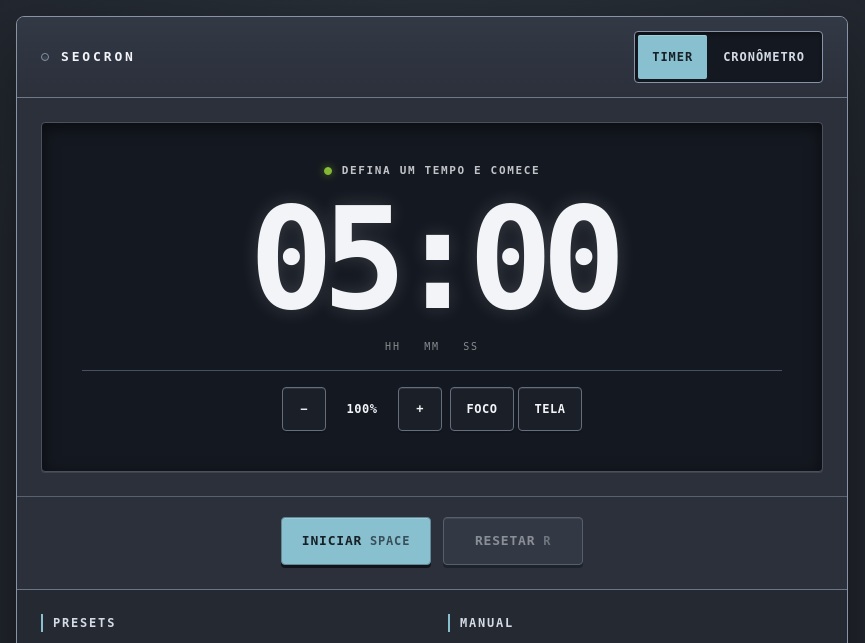
App › pauses a running Stopwatch before returning to Timer
What coordinates should you click on to do the following:
click the button "Cronômetro"
I would click on:
 (764, 57)
Its box is left=709, top=35, right=819, bottom=79.
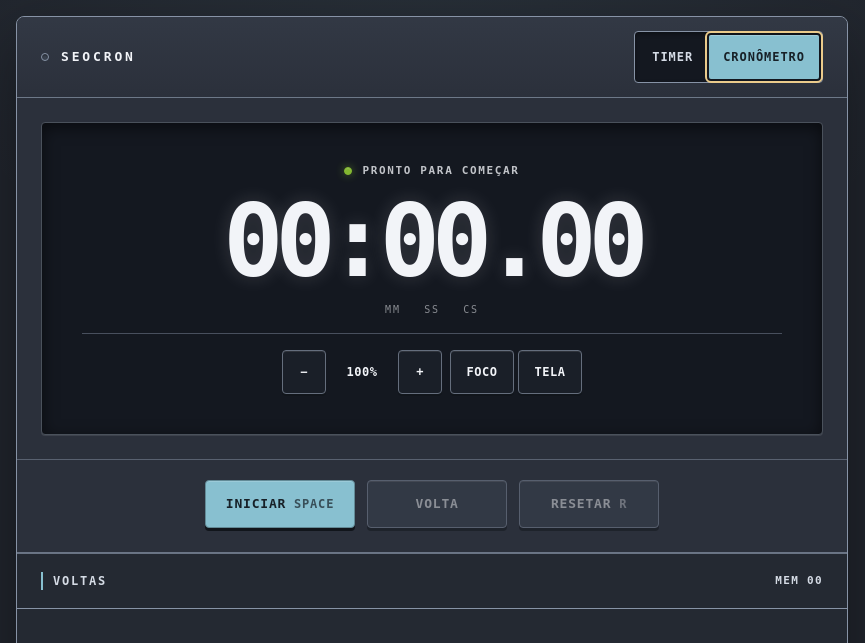
What coordinates should you click on to do the following:
click the button with aria-label "Iniciar Cronômetro"
I would click on:
 (280, 504)
Its box is left=205, top=480, right=355, bottom=528.
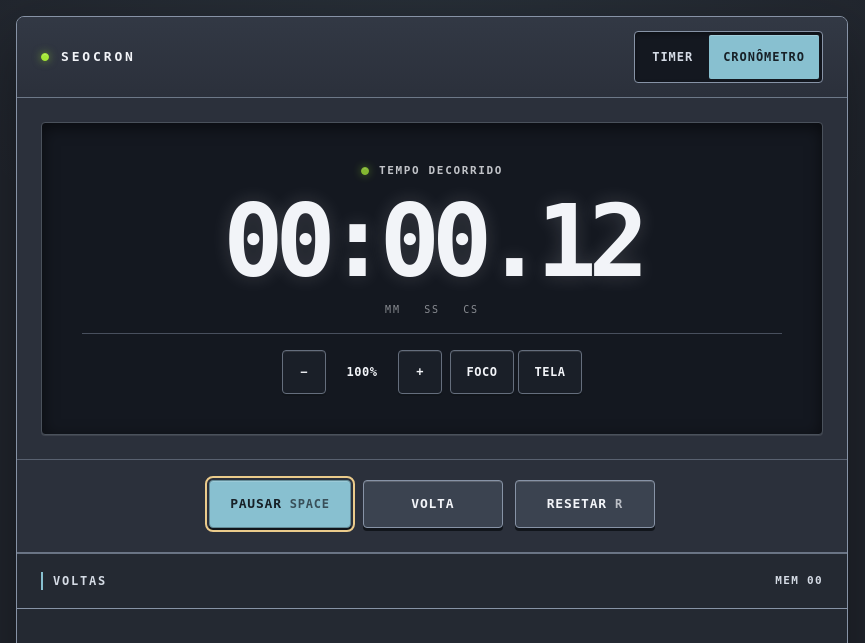
What coordinates should you click on to do the following:
click the button "Timer"
I would click on:
 (673, 57)
Its box is left=638, top=35, right=707, bottom=79.
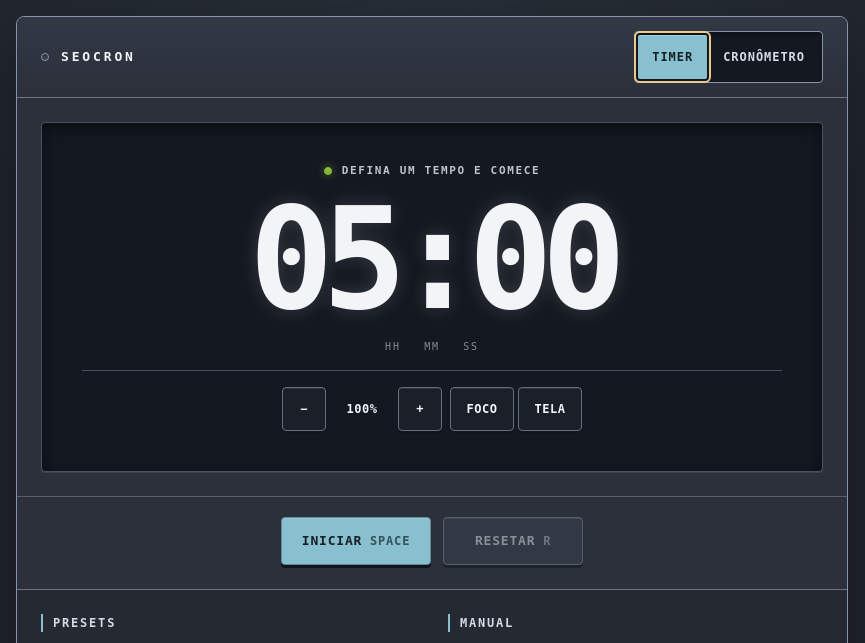
What coordinates should you click on to do the following:
click the button "Cronômetro"
I would click on:
 (764, 57)
Its box is left=709, top=35, right=819, bottom=79.
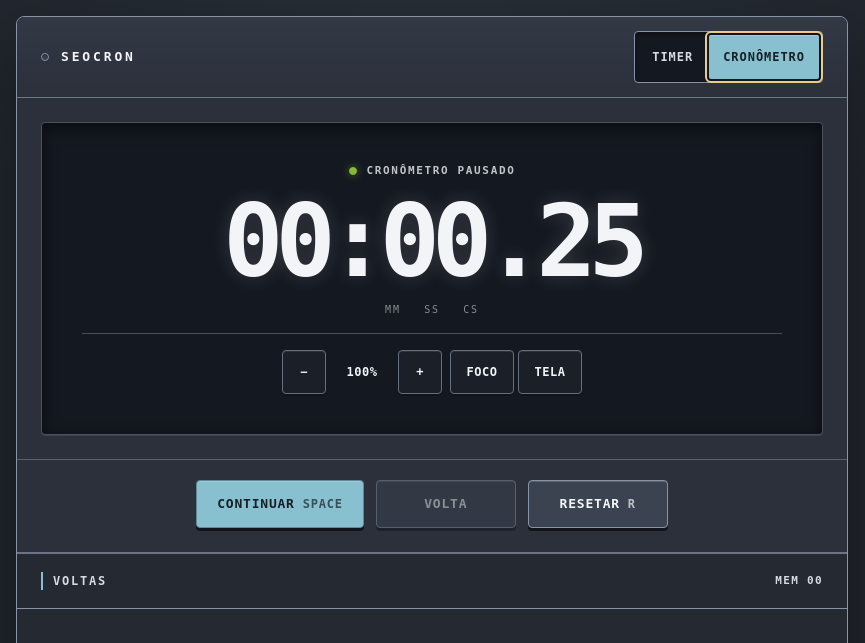
Expected: the button with aria-label "Continuar Cronômetro" is shown, left=196, top=480, right=364, bottom=528
